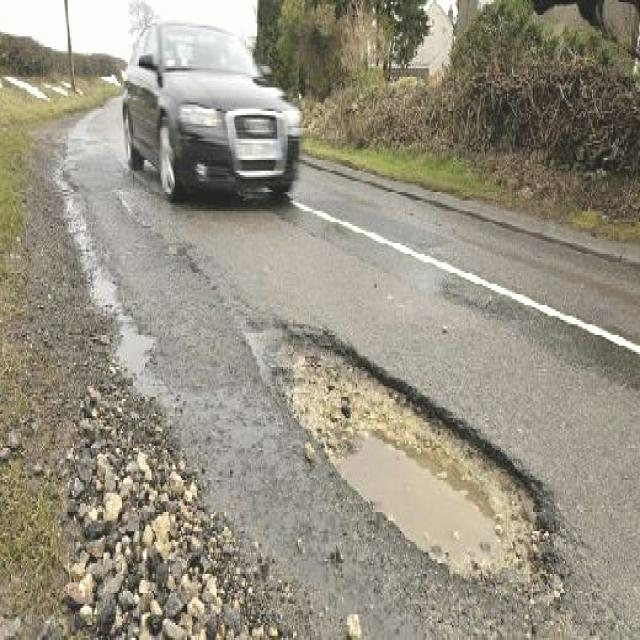Pothole: (244, 318, 559, 578)
